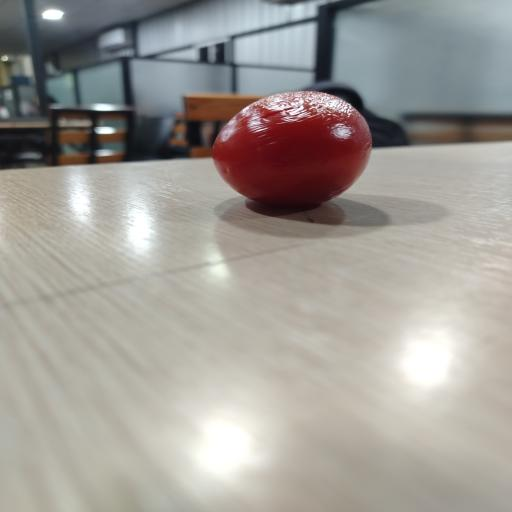spoiled: (213, 91, 372, 206)
